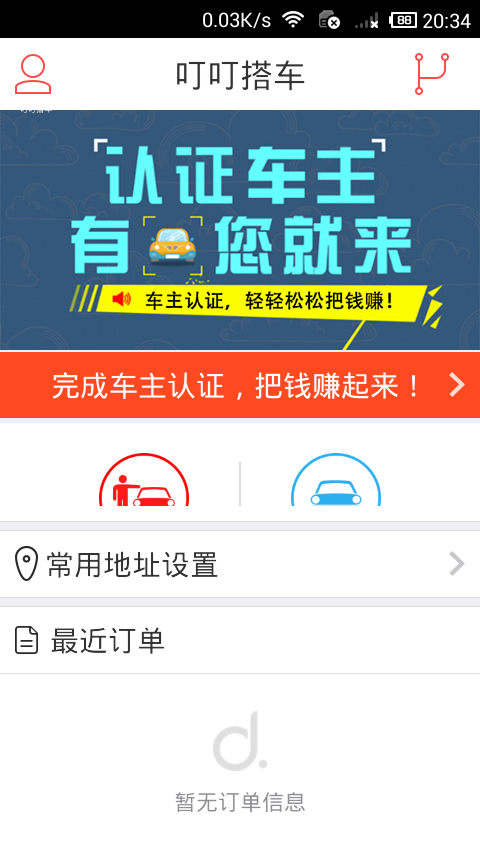imgbutton: (1, 529, 480, 678), (401, 46, 461, 98), (8, 48, 63, 100), (436, 543, 474, 586), (436, 364, 473, 407)
imgview: (1, 104, 479, 421)
